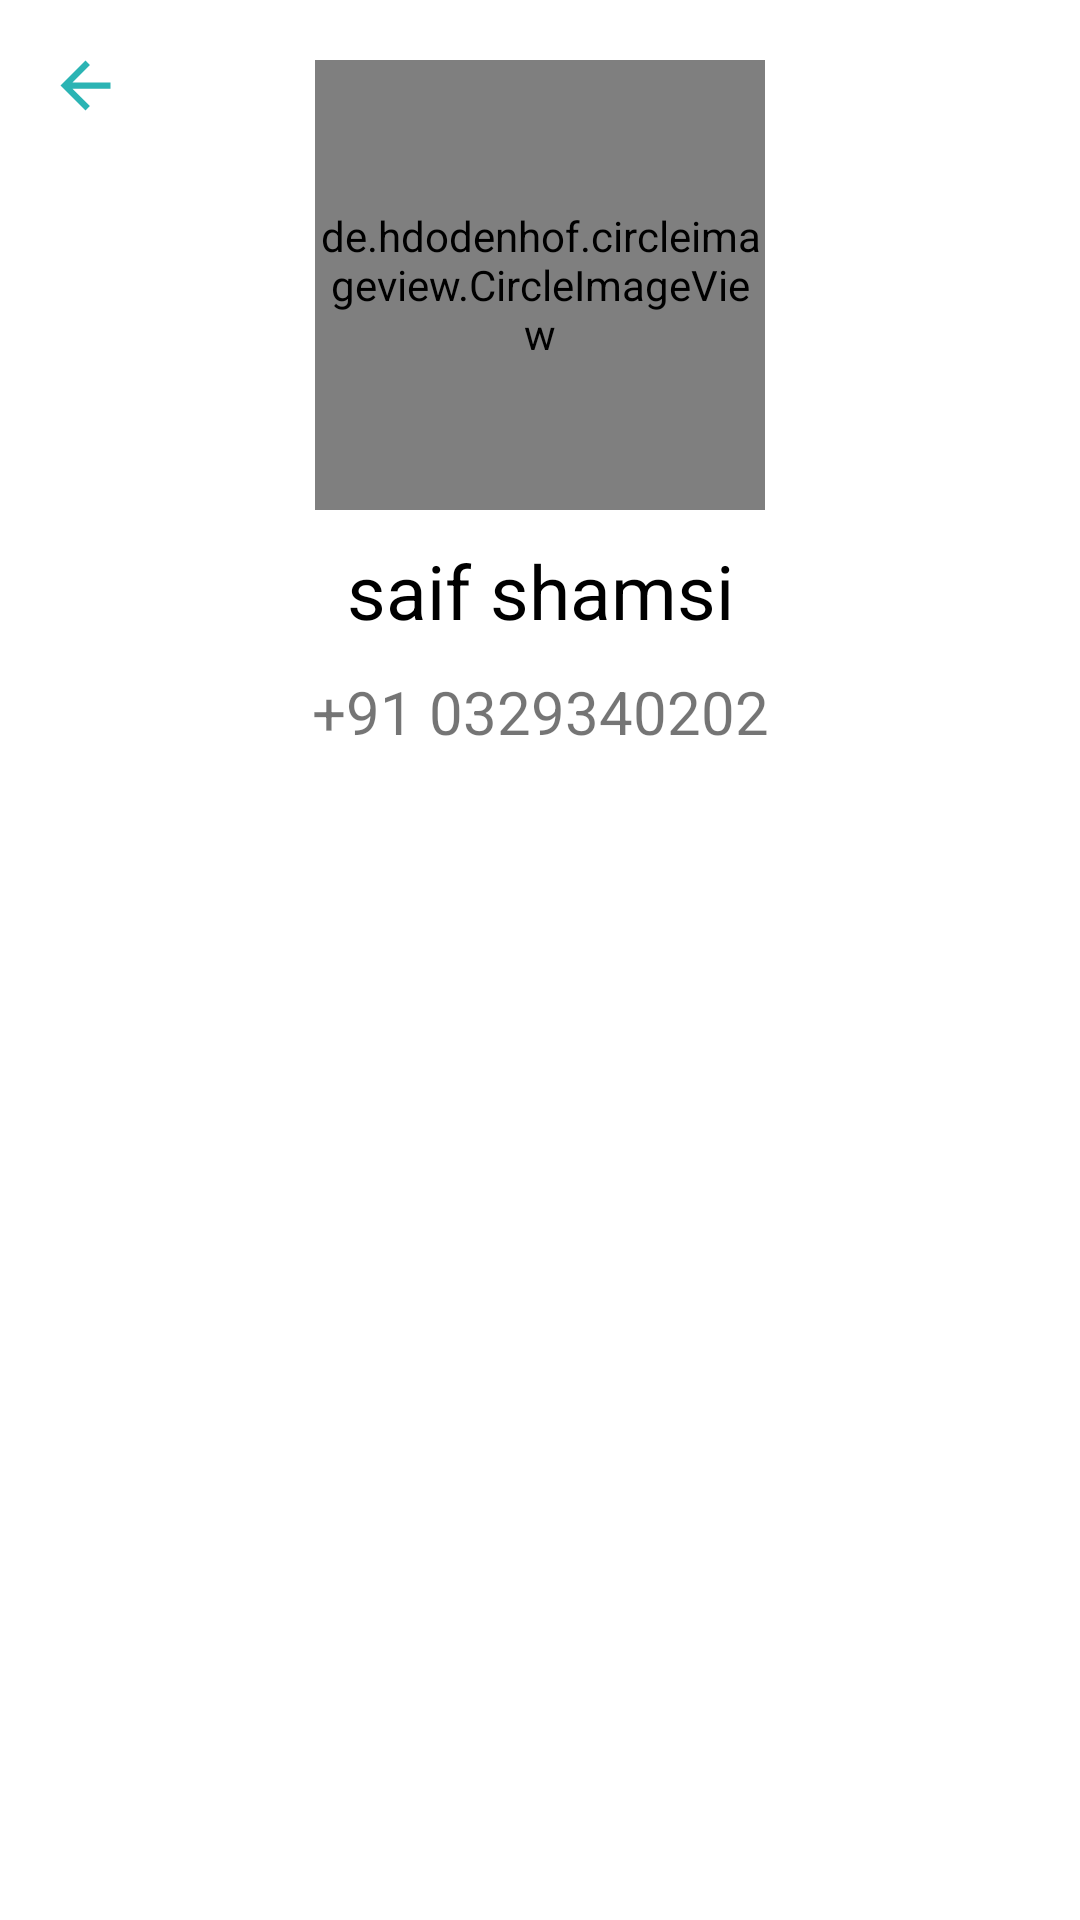

Screen size 1080px×1920px. Icon name, then its box in pixels as bbox=[x1, y1, x2, y2]:
back: bbox=[60, 60, 111, 111]
